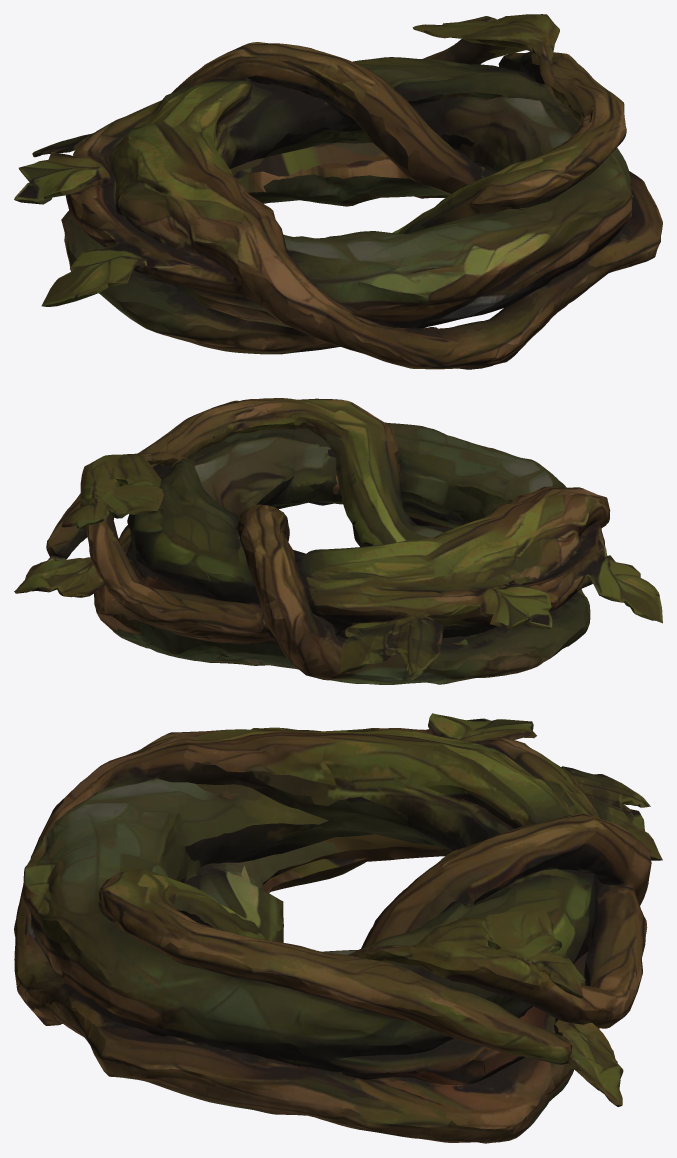
File: item_ancient_vine.glb
3 views of the same model, one above another, from view 1: azimuth 30°, elevation 25°; view 2: azimuth 150°, elevation 25°; view 3: azimuth 270°, elevation 25° (orthographic). The views are drawn at different scales.
Visible parts, largest first — view 1: item_ancient_vine; view 2: item_ancient_vine; view 3: item_ancient_vine.
Part boxes in pixels (x1,y1,x2,y2): item_ancient_vine: [14, 14, 662, 369]; item_ancient_vine: [14, 398, 662, 684]; item_ancient_vine: [14, 713, 662, 1143].
Bounding box in the file's own units: 0.4 × 0.1164 × 0.3102.
1 material, 1 textured.
